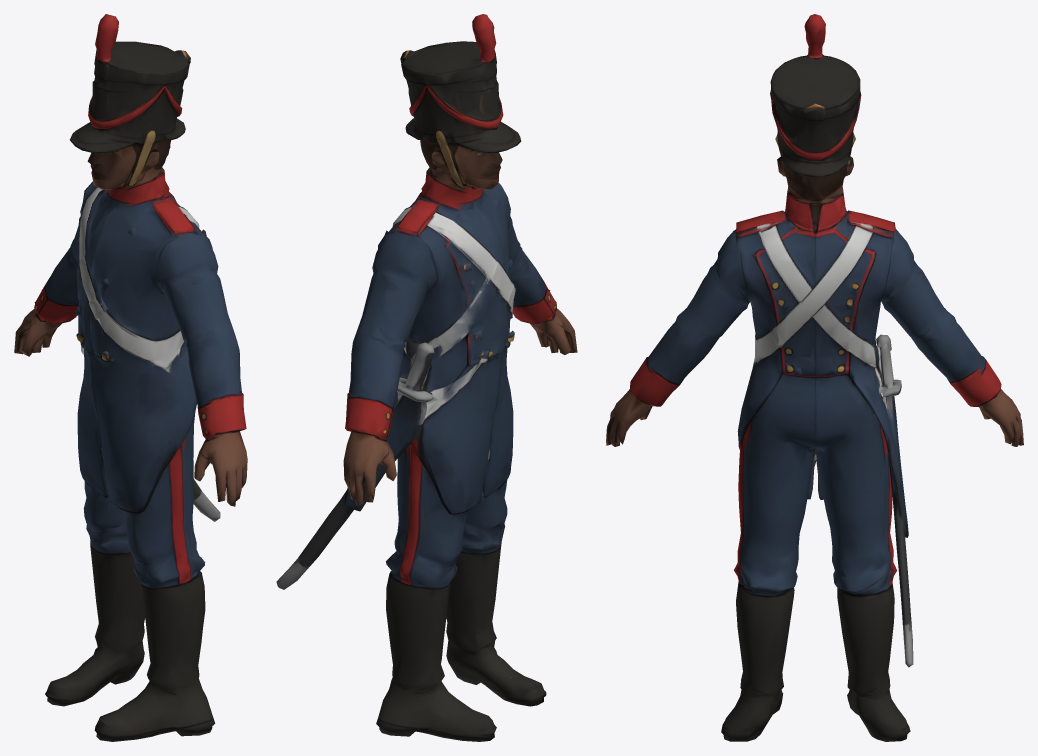
The model's file is 07e0ec95-c4ef-4ef8-b794-1f5310dea7f5_model_url.glb.
The picture shows the model from 3 angles, left to right: view 1: azimuth 30°, elevation 25°; view 2: azimuth 150°, elevation 25°; view 3: azimuth 270°, elevation 25°; orthographic projection.
Parts seen in each view (by area): view 1: tripo_node_07e0ec95-c4ef-4ef8-b794-1f5310dea7f5; view 2: tripo_node_07e0ec95-c4ef-4ef8-b794-1f5310dea7f5; view 3: tripo_node_07e0ec95-c4ef-4ef8-b794-1f5310dea7f5.
Boxes of the visible parts, <box> form: tripo_node_07e0ec95-c4ef-4ef8-b794-1f5310dea7f5: <box>14,14,247,741</box>; tripo_node_07e0ec95-c4ef-4ef8-b794-1f5310dea7f5: <box>276,14,577,741</box>; tripo_node_07e0ec95-c4ef-4ef8-b794-1f5310dea7f5: <box>606,14,1023,741</box>.
Bounding box in the file's own units: 0.2937 × 1 × 0.5435.
1 material, 1 textured.
